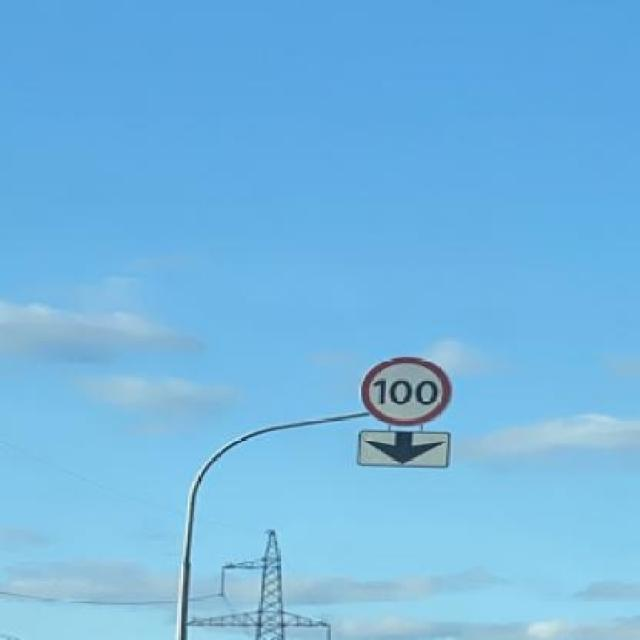forb_speed_over_100: (359, 357, 455, 425)
